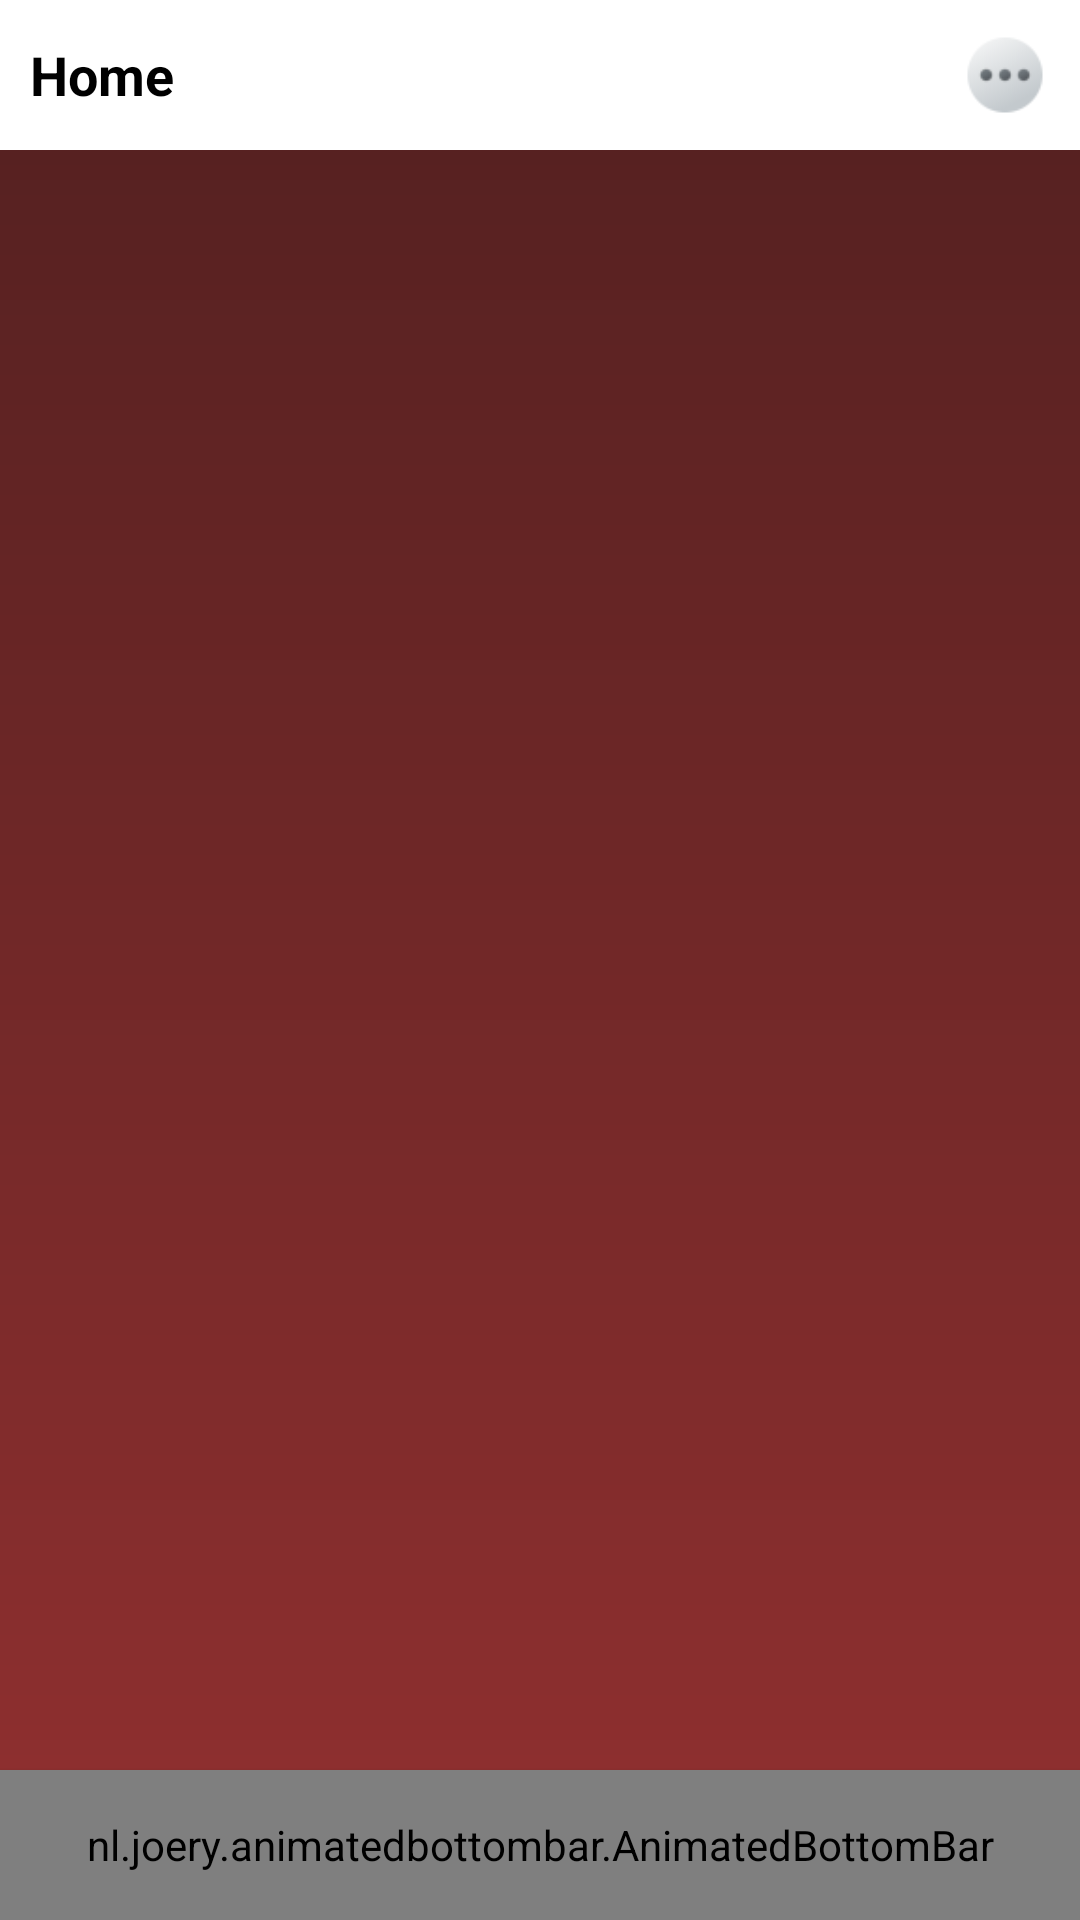

Icon click points for this 1080w x 1920h phone screenshot, format point (x, y):
more option: point (1005, 77)
